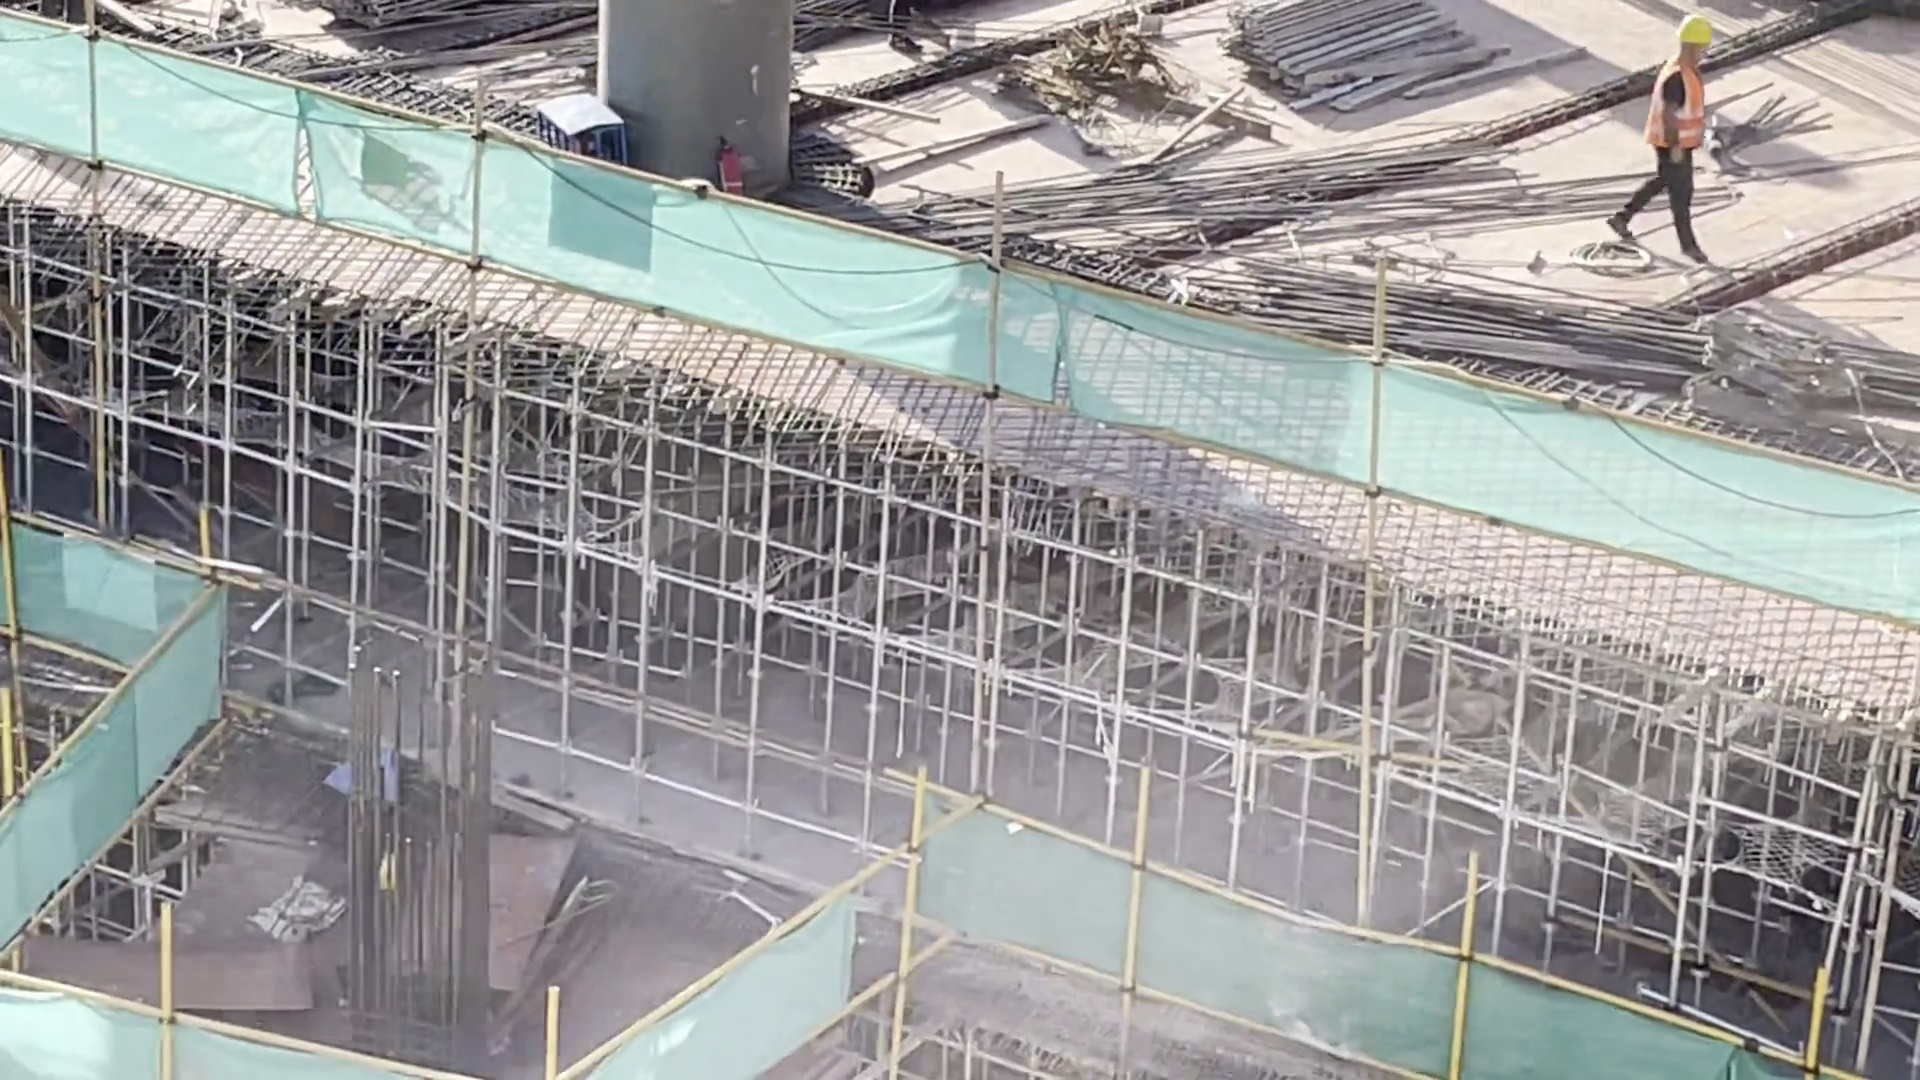helmet: (1665, 15, 1722, 53)
person: (1617, 15, 1734, 256)
vest: (1649, 52, 1713, 165)
